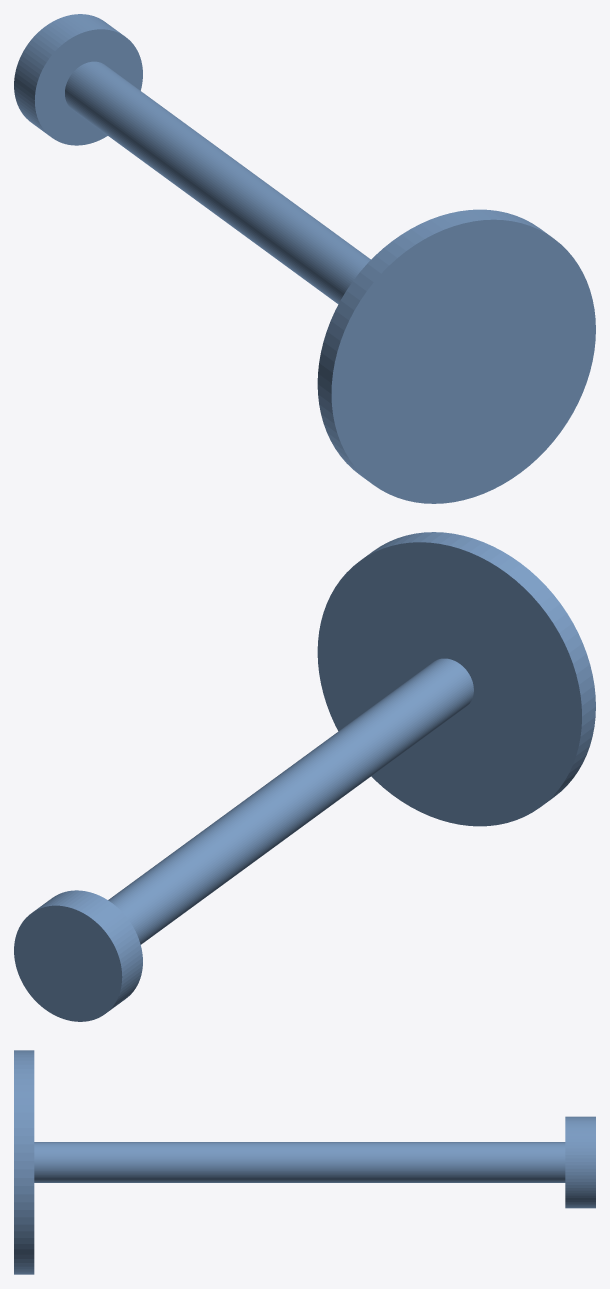
Rendered from GPS-M.glb.
3 renders of one model, top to bottom at view 1: azimuth 30°, elevation 25°; view 2: azimuth 150°, elevation 25°; view 3: azimuth 270°, elevation 25°, orthographic. The views are drawn at different scales.
Parts seen in each view (by area): view 1: geometry_0; view 2: geometry_0; view 3: geometry_0.
Part boxes in pixels (box(x1,y1,x2,y2)): geometry_0: box(14, 14, 595, 503); geometry_0: box(14, 532, 595, 1021); geometry_0: box(14, 1050, 595, 1274).
Bounding box in the file's own units: 44 × 44 × 114.
